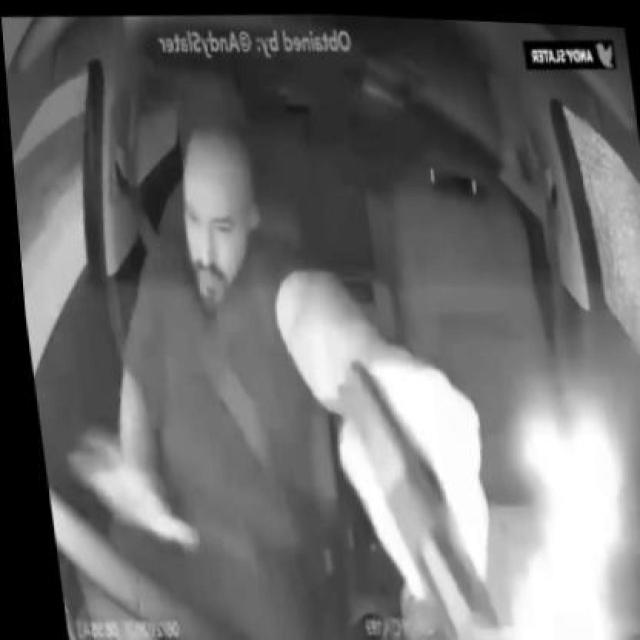weapon: (334, 368, 501, 638)
